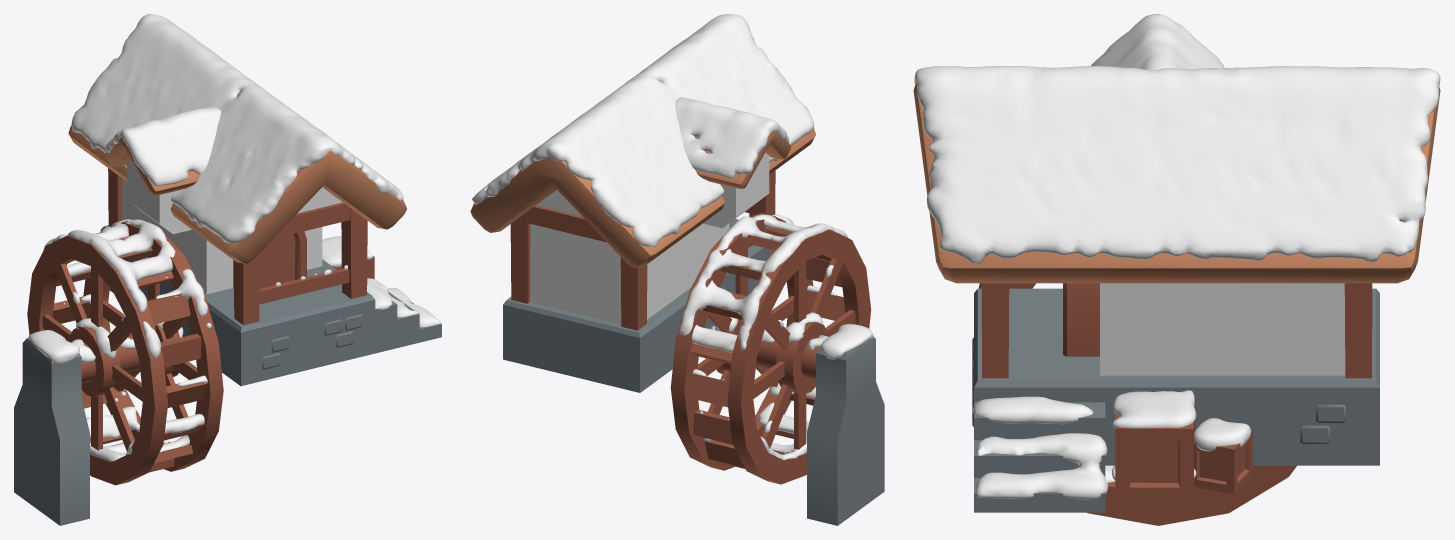
File: watermill.fbx
3 views of the same model, side by side, from view 1: azimuth 30°, elevation 25°; view 2: azimuth 150°, elevation 25°; view 3: azimuth 270°, elevation 25° (orthographic). The views are drawn at different scales.
Parts seen in each view (by area): view 1: watermill_wheel, SnowBall.073, watermill, watermill.002, SnowBall.072, watermill.009, SnowBall.080, watermill.003, watermill.001, watermill.007, watermill.013, watermill.011 (+9 smaller); view 2: watermill_wheel, SnowBall.073, watermill, watermill.002, watermill.003, SnowBall.072, watermill.009, SnowBall.080, watermill.013, watermill.005, watermill.004, watermill.008 (+3 smaller); view 3: SnowBall.073, watermill, watermill.003, watermill.009, SnowBall.074, watermill.001, watermill.019, watermill_wheel, SnowBall.080, SnowBall.075, watermill.010, watermill.004 (+3 smaller).
Part boxes in pixels (x1,y1,x2,y2): watermill_wheel: (27,219,223,485); SnowBall.073: (71,14,403,243); watermill: (100,225,375,386); watermill.002: (14,337,89,525); SnowBall.072: (43,219,211,461); watermill.009: (68,55,406,263); SnowBall.080: (105,107,220,186); watermill.003: (121,178,342,294); watermill.001: (375,292,441,353); watermill.007: (341,208,367,298); watermill.013: (127,160,191,234); watermill.011: (259,234,295,288); watermill_wheel: (670,213,871,484); SnowBall.073: (472,14,814,247); watermill: (503,219,771,392); watermill.002: (807,336,884,525); watermill.003: (530,190,729,324); SnowBall.072: (679,214,862,459); watermill.009: (470,80,815,267); SnowBall.080: (675,97,789,178); watermill.013: (703,152,769,228); watermill.005: (620,257,647,330); watermill.004: (510,211,530,303); watermill.008: (528,205,606,242); SnowBall.073: (914,66,1440,263); watermill: (974,288,1379,465); watermill.003: (1100,283,1345,375); watermill.009: (913,83,1440,283); SnowBall.074: (973,396,1108,499); watermill.001: (974,402,1105,512); watermill.019: (1115,395,1195,500); watermill_wheel: (978,283,1296,525); SnowBall.080: (1091,14,1224,70); SnowBall.075: (1112,390,1196,480); watermill.010: (1063,283,1099,356); watermill.004: (1344,283,1372,378).
Size of the model in its own units: 154 by 162 by 142.
